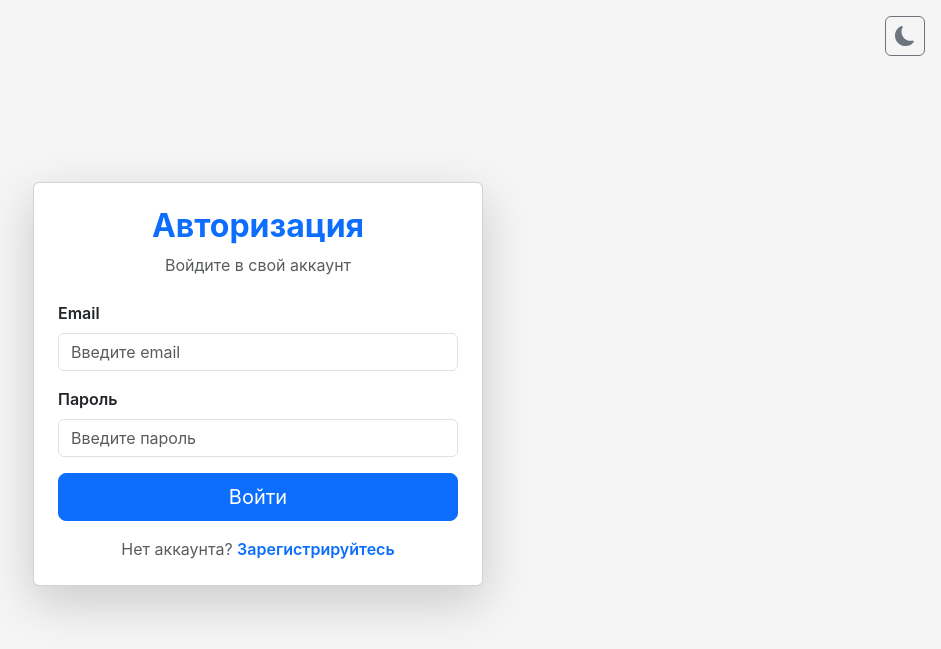
Test case: LoginForm › показывает ошибку при коротком пароле
Type "user@test.com" into the field with placeholder "Введите email". click: (258, 352)
box: [58, 333, 458, 371]
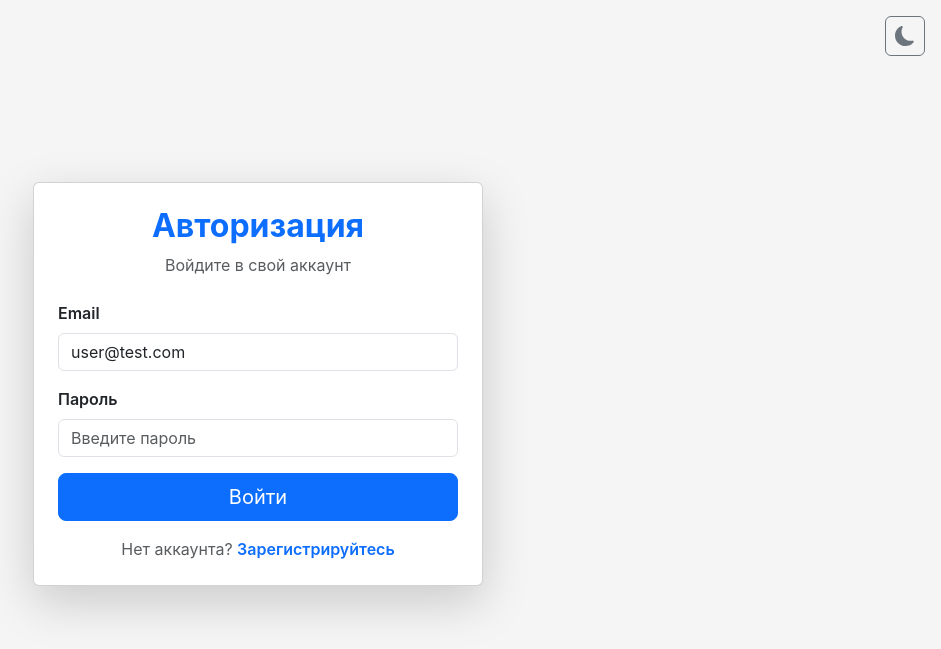
Type "12345" into the password field with placeholder "Введите пароль". click: (258, 438)
box: [58, 419, 458, 457]
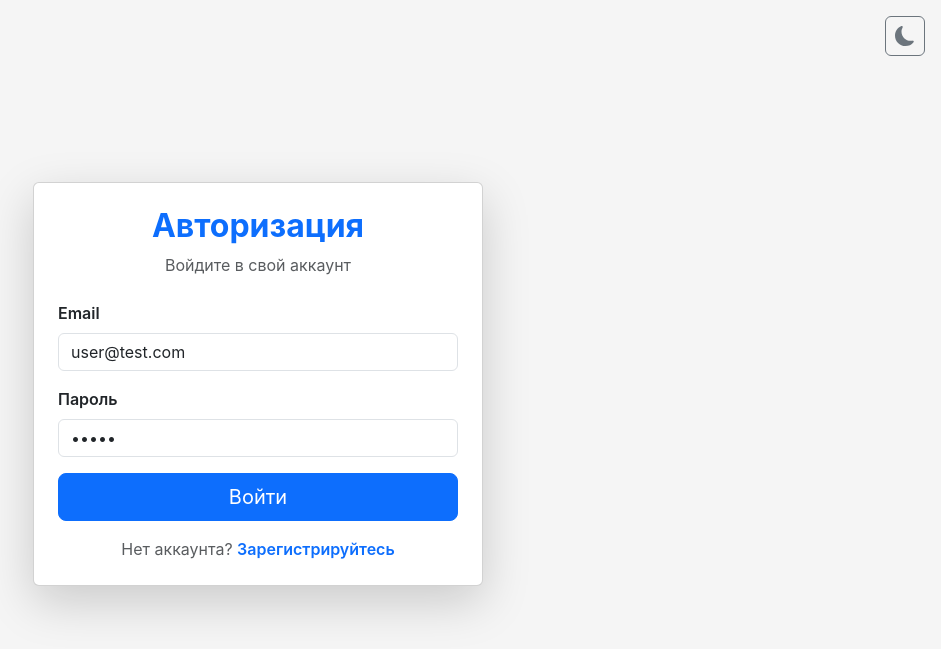
Click the button "Войти". click: (258, 497)
box: [58, 473, 458, 521]
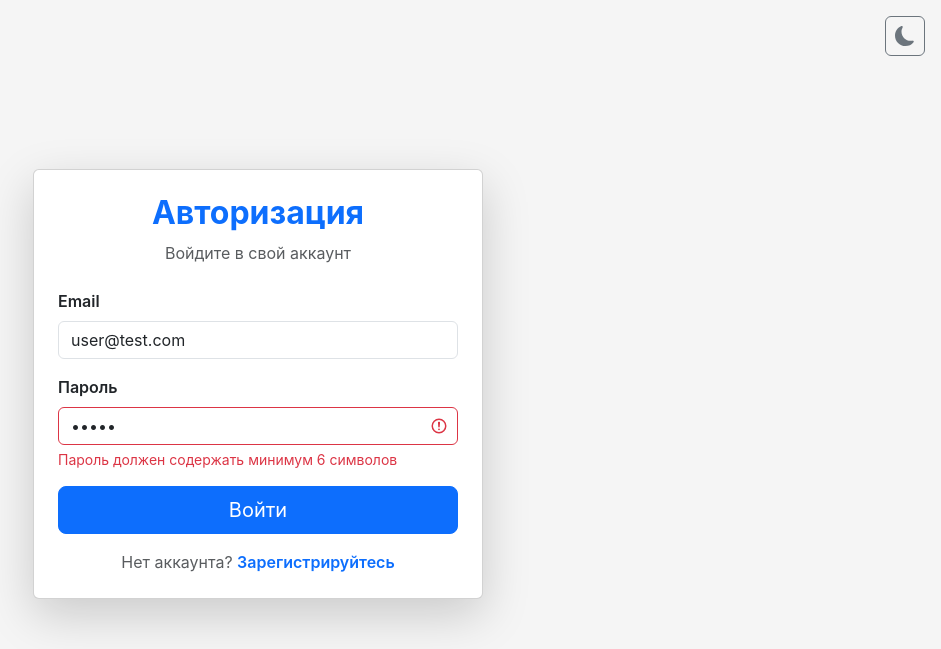
Check: the text "Пароль должен содержать минимум 6 символов" is shown, box [58, 451, 397, 468]
